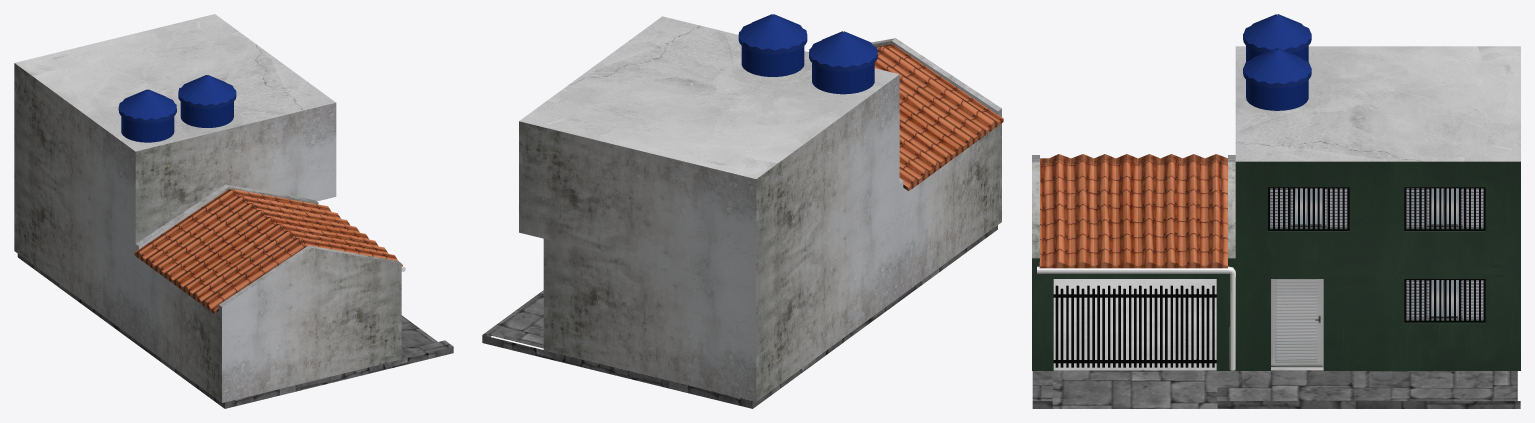
The model's file is z_casa.glb.
3 views of the same model, side by side, from view 1: azimuth 30°, elevation 25°; view 2: azimuth 150°, elevation 25°; view 3: azimuth 270°, elevation 25° (orthographic). The views are drawn at different scales.
Visible parts, largest first — view 1: casa_simples, techado_casa, calcada_casa, caixa_agua, caixa_agua.001; view 2: casa_simples, techado_casa, calcada_casa, caixa_agua.001, caixa_agua; view 3: casa_simples, calcada_casa, techado_casa, caixa_agua.001, caixa_agua, cano_casa.
Boxes of the visible parts, x1,y1,x2,y2 form: casa_simples: [14, 14, 401, 402]; techado_casa: [134, 189, 402, 313]; calcada_casa: [17, 254, 453, 408]; caixa_agua: [118, 89, 176, 142]; caixa_agua.001: [178, 75, 236, 127]; casa_simples: [519, 16, 1001, 401]; techado_casa: [874, 44, 1003, 191]; calcada_casa: [482, 225, 997, 408]; caixa_agua.001: [738, 14, 807, 76]; caixa_agua: [809, 31, 877, 94]; casa_simples: [1032, 46, 1520, 370]; calcada_casa: [1032, 279, 1520, 408]; techado_casa: [1039, 154, 1227, 268]; caixa_agua.001: [1243, 48, 1311, 110]; caixa_agua: [1243, 14, 1311, 61]; cano_casa: [1037, 266, 1235, 370].
Size of the model in its own units: 7.88 by 7.54 by 12.01.
Materials: 4 (3 with a texture image).
